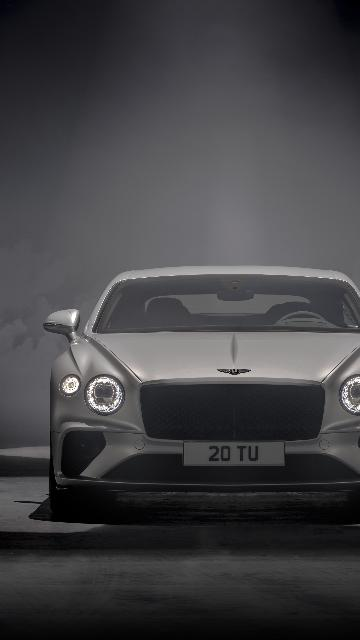bentley: (42, 263, 360, 515)
